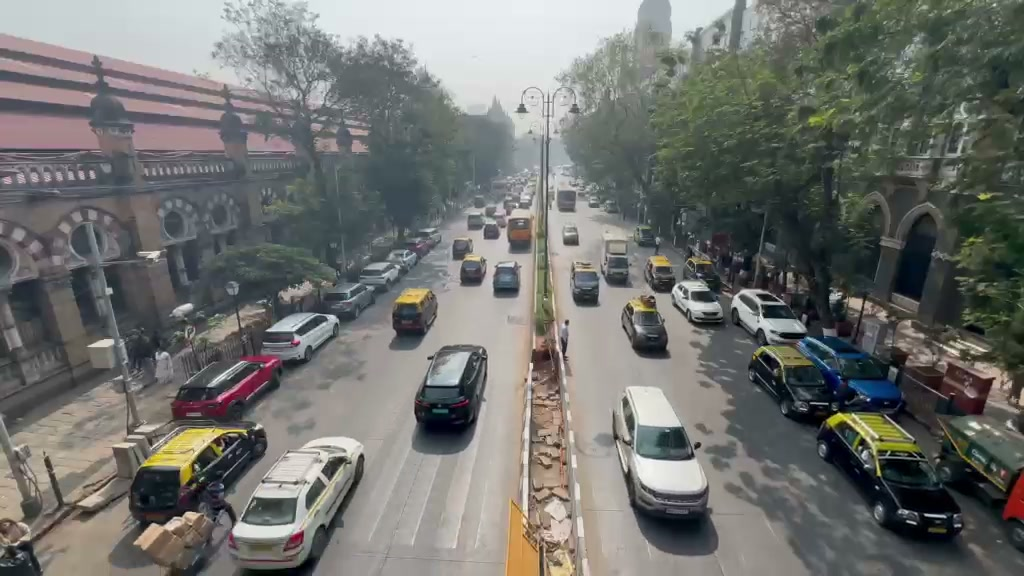bus: (507, 211, 535, 250), (556, 188, 577, 212)
car: (815, 409, 965, 541), (226, 435, 367, 572), (128, 420, 270, 524), (611, 385, 710, 520), (746, 339, 855, 422), (802, 334, 904, 413), (170, 354, 283, 422), (938, 414, 1024, 503), (413, 343, 489, 432), (133, 510, 234, 576), (259, 311, 340, 366), (731, 288, 808, 345), (620, 294, 670, 352), (670, 279, 725, 326), (318, 279, 375, 321), (391, 286, 439, 335), (1001, 466, 1024, 553), (570, 262, 602, 306), (643, 254, 677, 292), (357, 260, 403, 288), (492, 261, 521, 296), (459, 254, 487, 285), (387, 248, 418, 269)
pedestrian: (0, 518, 43, 573)
truck: (815, 409, 964, 540), (602, 236, 631, 286)
